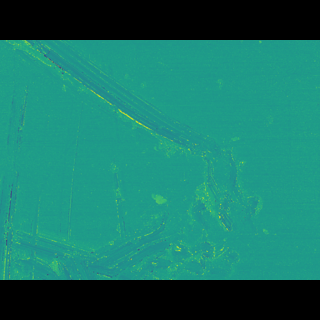Loch: (0, 70, 274, 217), (0, 194, 262, 251), (0, 101, 34, 249)
